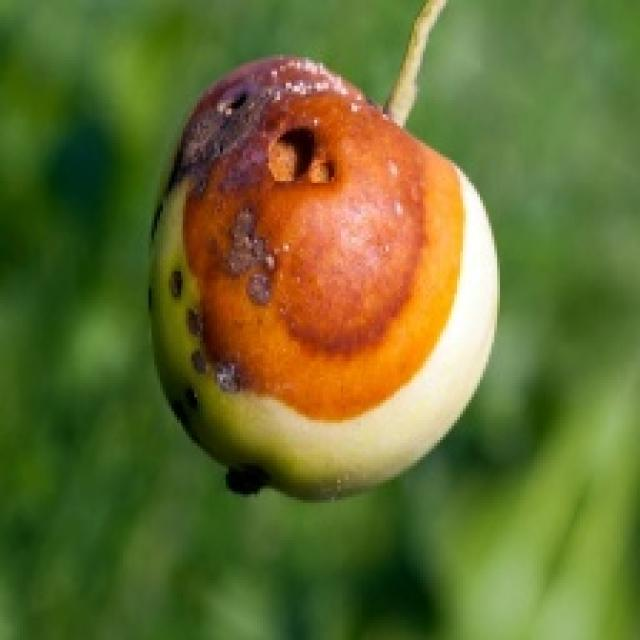rotten_apple: (152, 57, 497, 500)
